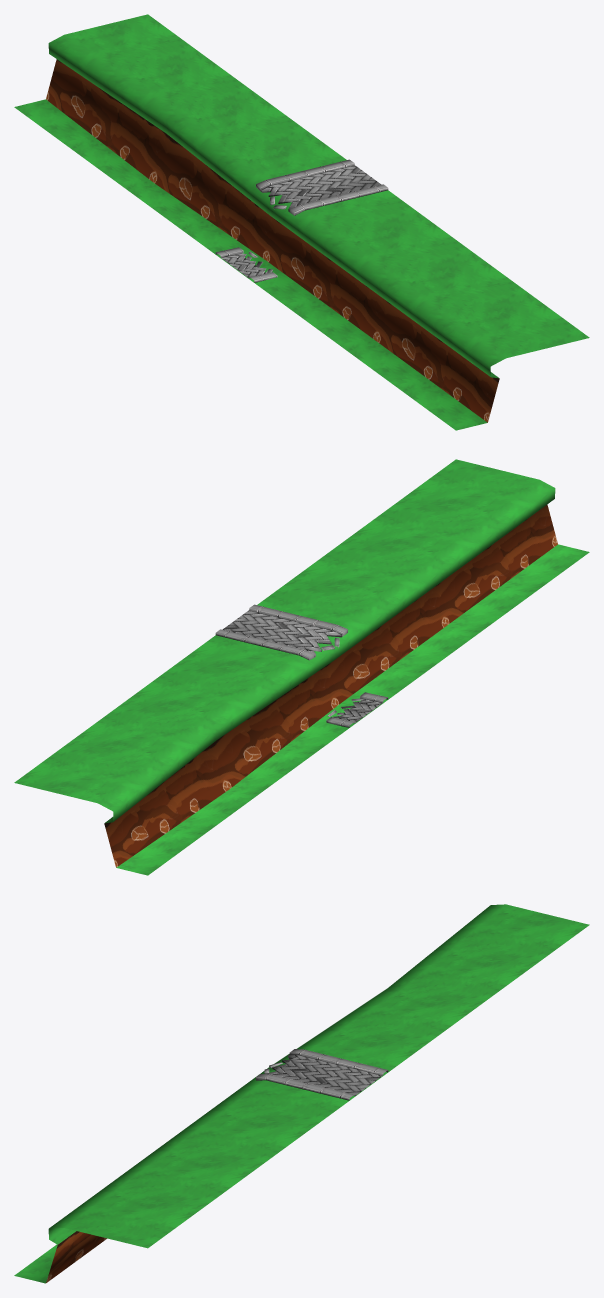
The model's file is Terrain Broken Rising Short.fbx.
The picture shows the model from 3 angles, top to bottom: view 1: azimuth 30°, elevation 25°; view 2: azimuth 150°, elevation 25°; view 3: azimuth 330°, elevation 25°; orthographic projection.
Parts seen in each view (by area): view 1: Terrain, Road; view 2: Terrain, Road; view 3: Terrain, Road.
Boxes of the visible parts, box(x1,y1,x2,y2) form: Terrain: box(14, 14, 589, 430); Road: box(215, 159, 388, 282); Terrain: box(14, 459, 589, 875); Road: box(215, 604, 388, 727); Terrain: box(14, 904, 589, 1283); Road: box(256, 1049, 388, 1100).
Size of the model in its own units: 7 by 3.34 by 40.
